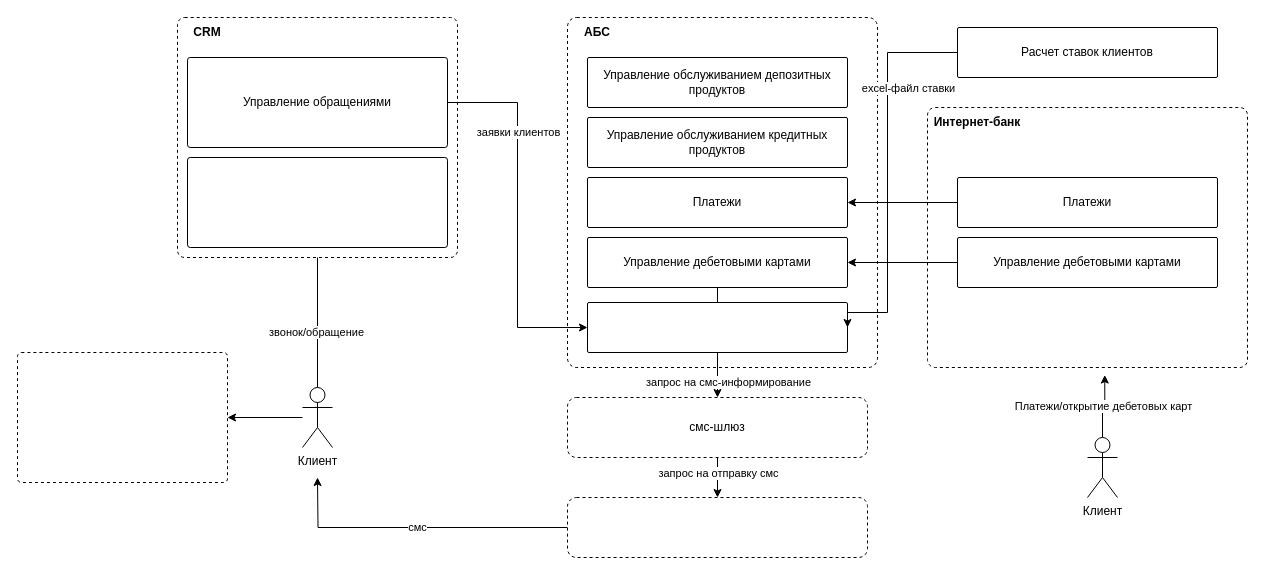
Some shapes in this 1265 by 575 pixel diagram are drawn without their labels. Each missing label, with the box of its shape:
Сайт: (16, 352, 228, 482)
телеком-оператор: (566, 496, 868, 558)
Управление заявками клиентов из call-центра: (586, 302, 848, 352)
Управление звонками: (186, 156, 448, 248)
